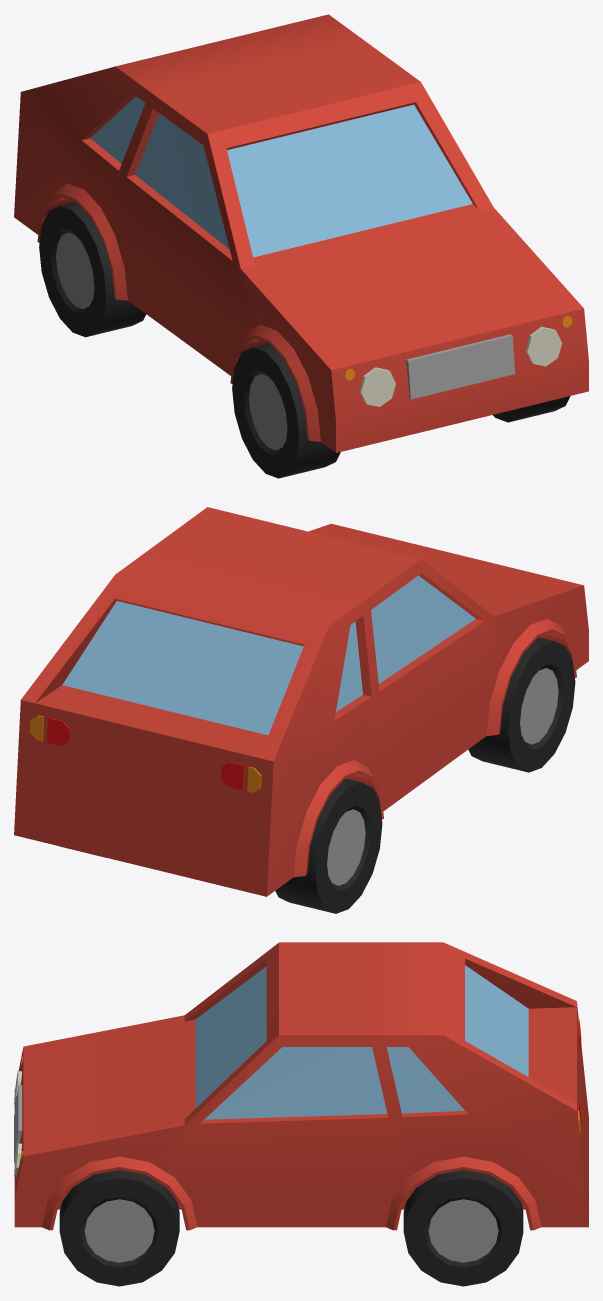
Rendered from car-hatchback-red.gltf.
The picture shows the model from 3 angles, top to bottom: view 1: azimuth 30°, elevation 25°; view 2: azimuth 150°, elevation 25°; view 3: azimuth 270°, elevation 25°; orthographic projection. The views are drawn at different scales.
Visible parts, largest first — view 1: car-hatchback-red_Cube.617; view 2: car-hatchback-red_Cube.617; view 3: car-hatchback-red_Cube.617.
Part boxes in pixels (x1,y1,x2,y2): car-hatchback-red_Cube.617: (14, 14, 588, 478); car-hatchback-red_Cube.617: (14, 507, 588, 913); car-hatchback-red_Cube.617: (14, 942, 588, 1286).
Size of the model in its own units: 1.78 by 1.65 by 3.61.
